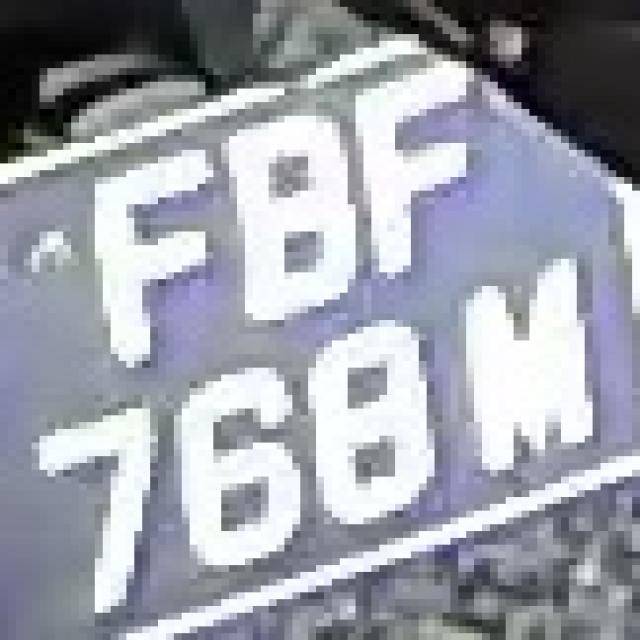6: (166, 354, 316, 579)
7: (16, 409, 158, 633)
8: (292, 306, 450, 531)
B: (221, 102, 395, 327)
F: (79, 122, 221, 368), (340, 54, 490, 266)
M: (434, 252, 600, 483)
